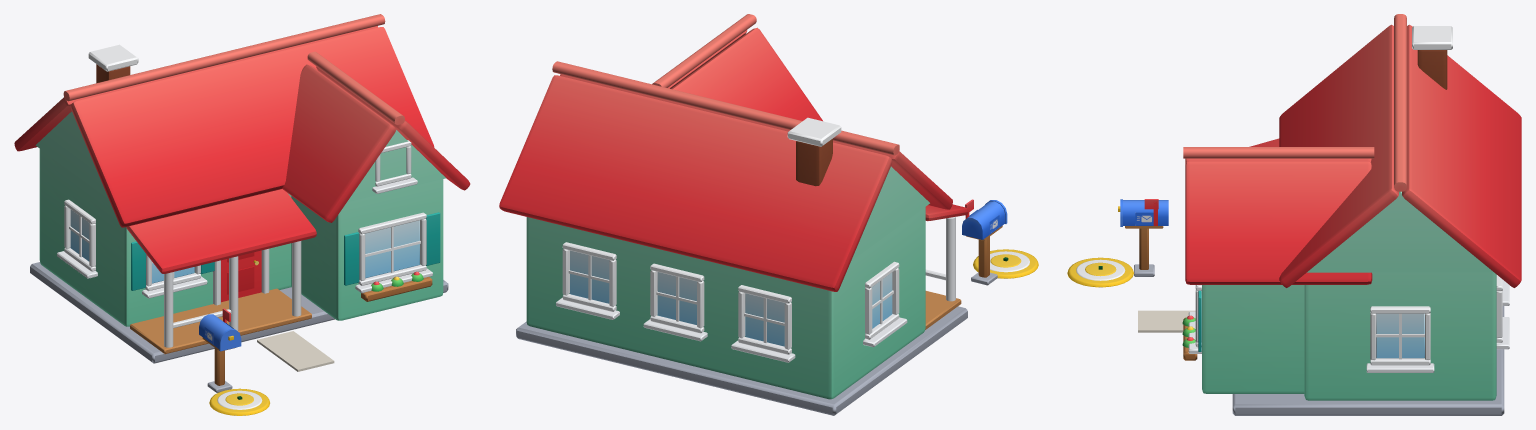
Rendered from house_porch.glb.
The picture shows the model from 3 angles, left to right: view 1: azimuth 30°, elevation 25°; view 2: azimuth 150°, elevation 25°; view 3: azimuth 270°, elevation 25°; orthographic projection. The views are drawn at different scales.
Visible parts, largest first — view 1: house_porch; view 2: house_porch; view 3: house_porch.
Boxes of the visible parts, x1,y1,x2,y2 form: house_porch: (14,14,470,415); house_porch: (499,14,1038,415); house_porch: (1067,14,1521,415).
Size of the model in its own units: 31.1 by 21.78 by 35.45.
1 material, 1 textured.
